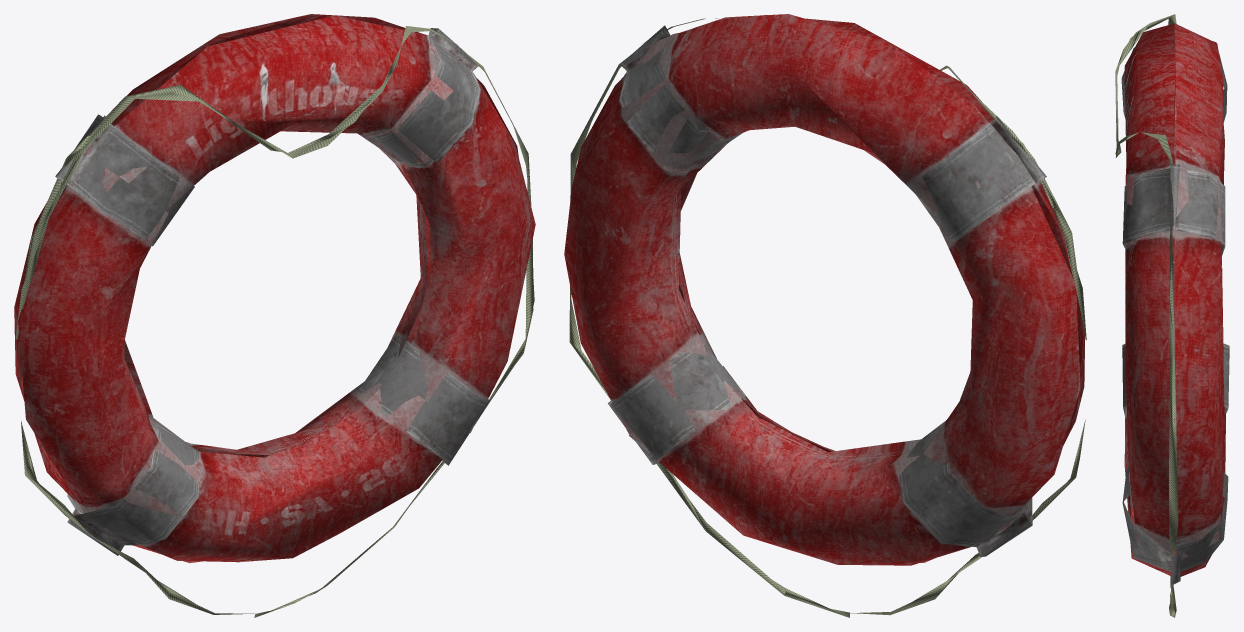
The model's file is lifebuoy.glb.
The picture shows the model from 3 angles, left to right: view 1: azimuth 30°, elevation 25°; view 2: azimuth 150°, elevation 25°; view 3: azimuth 270°, elevation 25°; orthographic projection. The views are drawn at different scales.
Visible parts, largest first — view 1: lifebuoy; view 2: lifebuoy; view 3: lifebuoy.
Boxes of the visible parts, <box> form: lifebuoy: <box>14,14,535,617</box>; lifebuoy: <box>564,14,1086,617</box>; lifebuoy: <box>1115,14,1229,617</box>.
Bounding box in the file's own units: 0.7706 × 0.8389 × 0.1559.
1 material, 1 textured.
